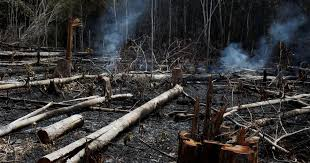smoke: (219, 6, 306, 83), (97, 1, 144, 78)
